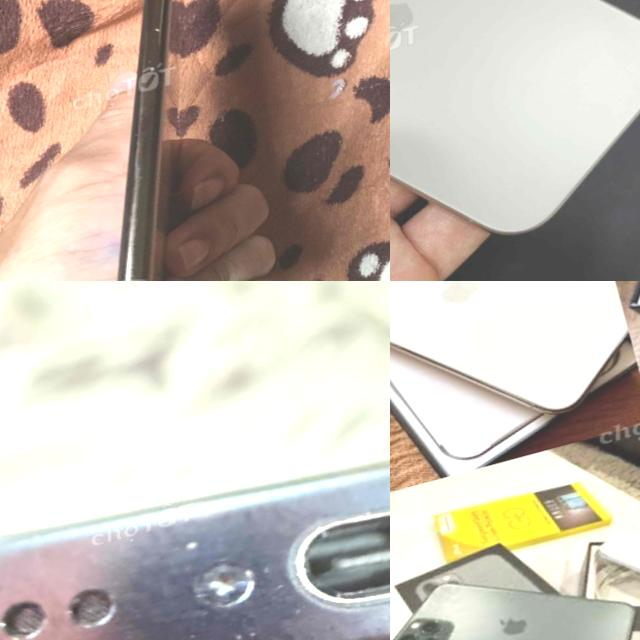gen_15: (0, 391, 390, 640), (390, 0, 640, 281)
gen_x_xs: (115, 0, 176, 281)
scratch: (0, 476, 209, 640), (209, 527, 328, 640), (134, 104, 165, 158), (120, 201, 156, 245), (128, 152, 158, 192)
